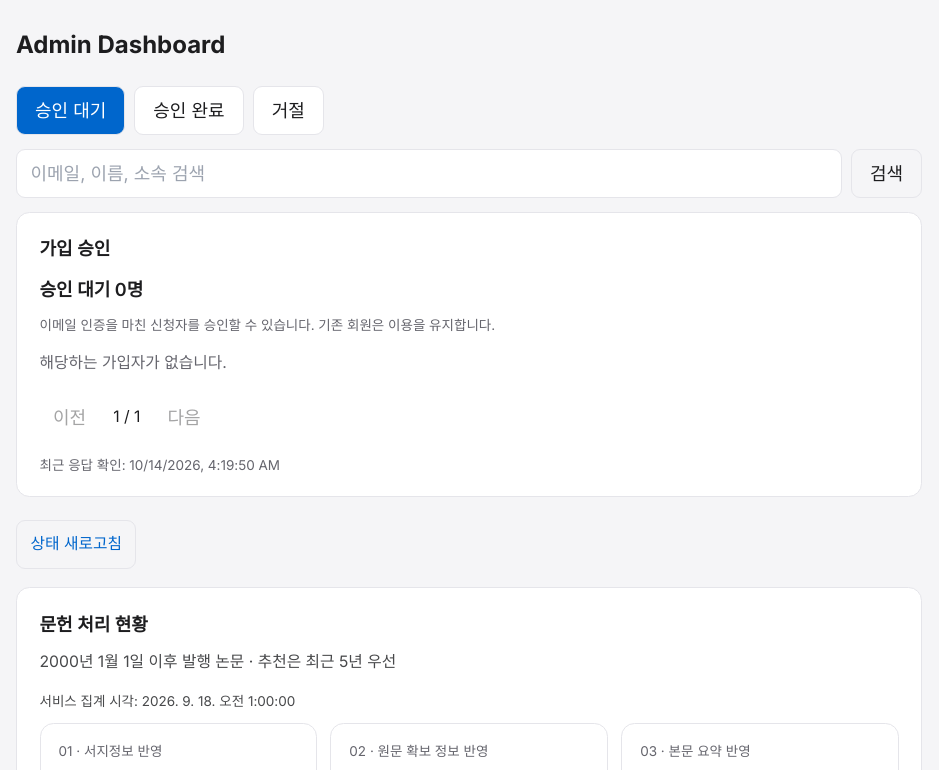
preserves previous results with a visible stale label when refresh fails
Click the button "상태 새로고침": (76, 544) [16,520,136,569]
(page scrolled)
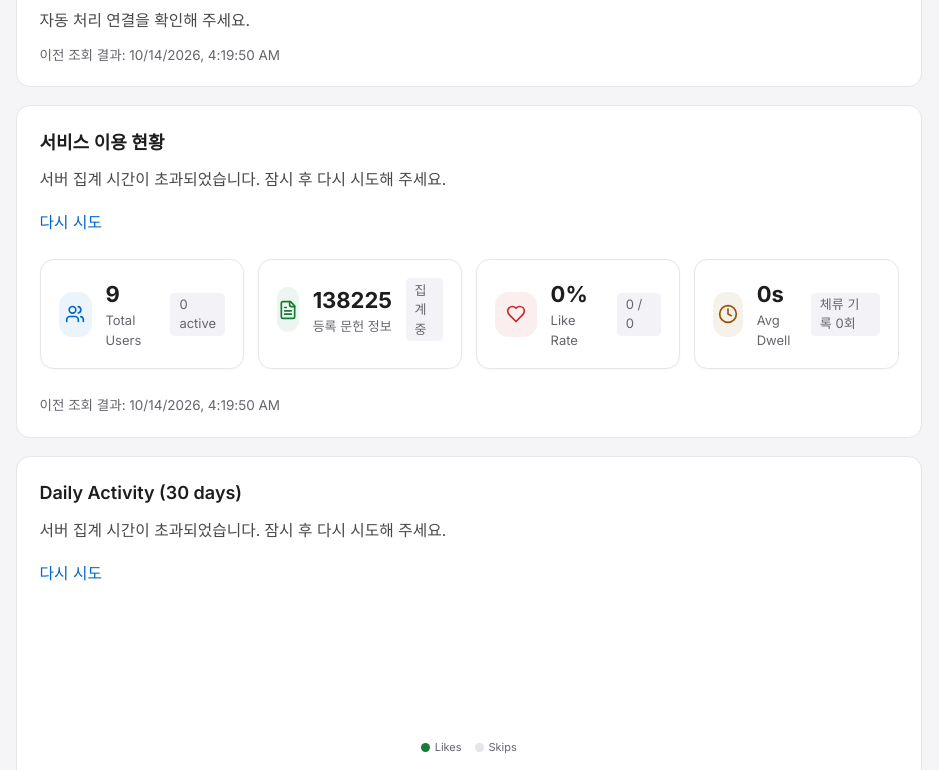
Expected: the text "138225" is shown, [313,284,392,317]
Now the text "이전 조회 결과: 10/14/2026, 4:19:50 AM" below "등록 문헌 정보" is shown, box [40,397,122,413]
